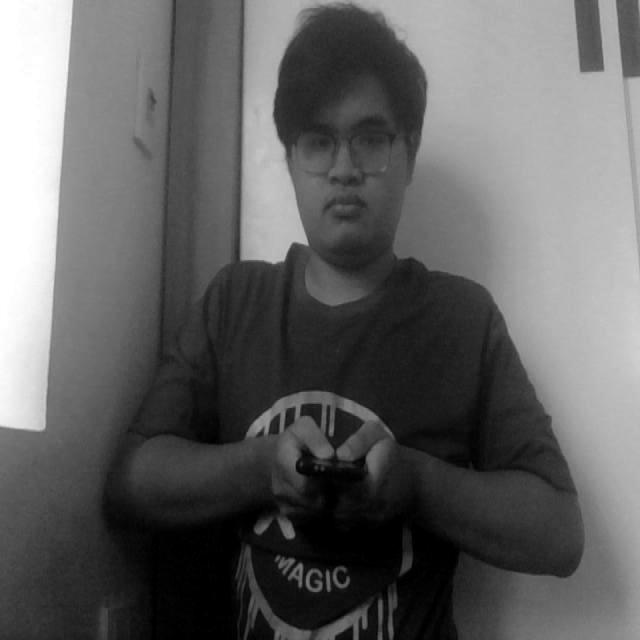phone: (294, 414, 374, 516)
